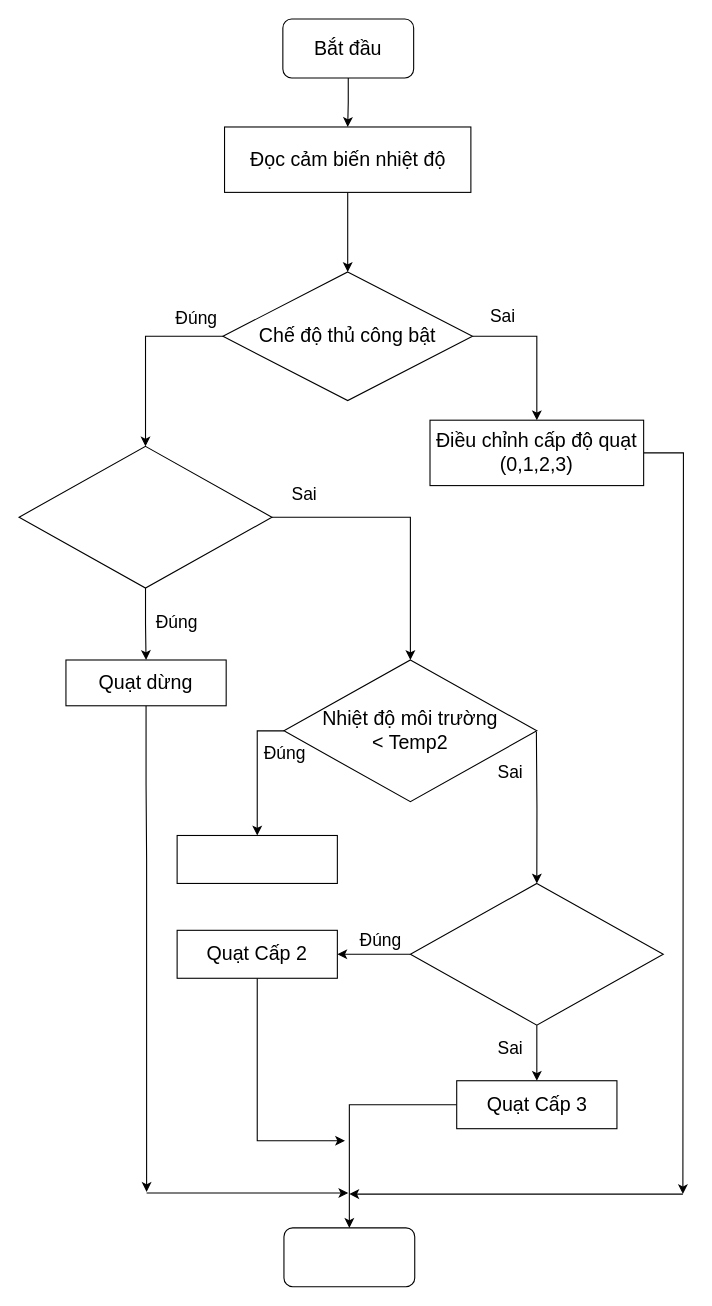
This 712x1306 diagram has some shape labels left out. Each missing label, with the box of its shape:
Kết thúc: (283, 1227, 415, 1287)
Nhiệt độ môi trường < Temp1: (18, 445, 272, 588)
Nhiệt độ môi trường < Temp3: (409, 882, 663, 1025)
Quạt Cấp 1: (176, 834, 337, 883)
